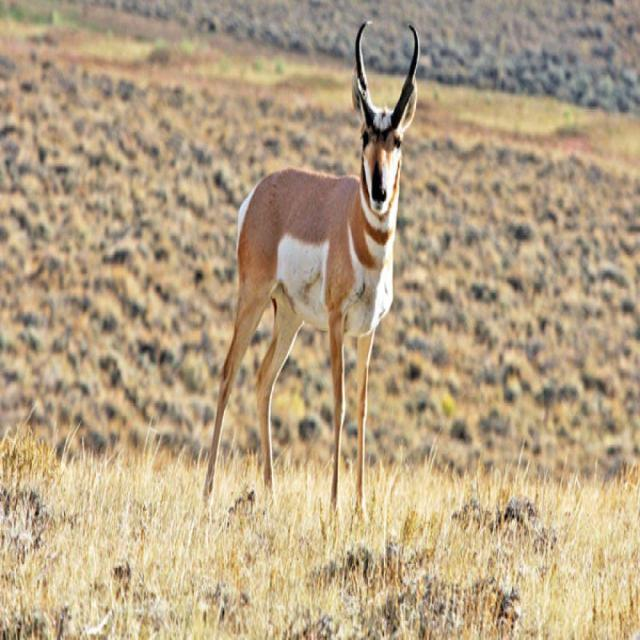Antelope: (202, 14, 420, 523)
